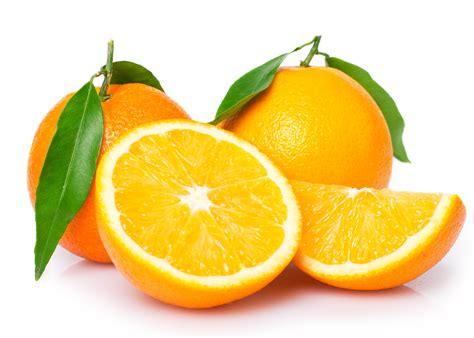orange: (24, 80, 174, 269), (213, 62, 397, 199)
